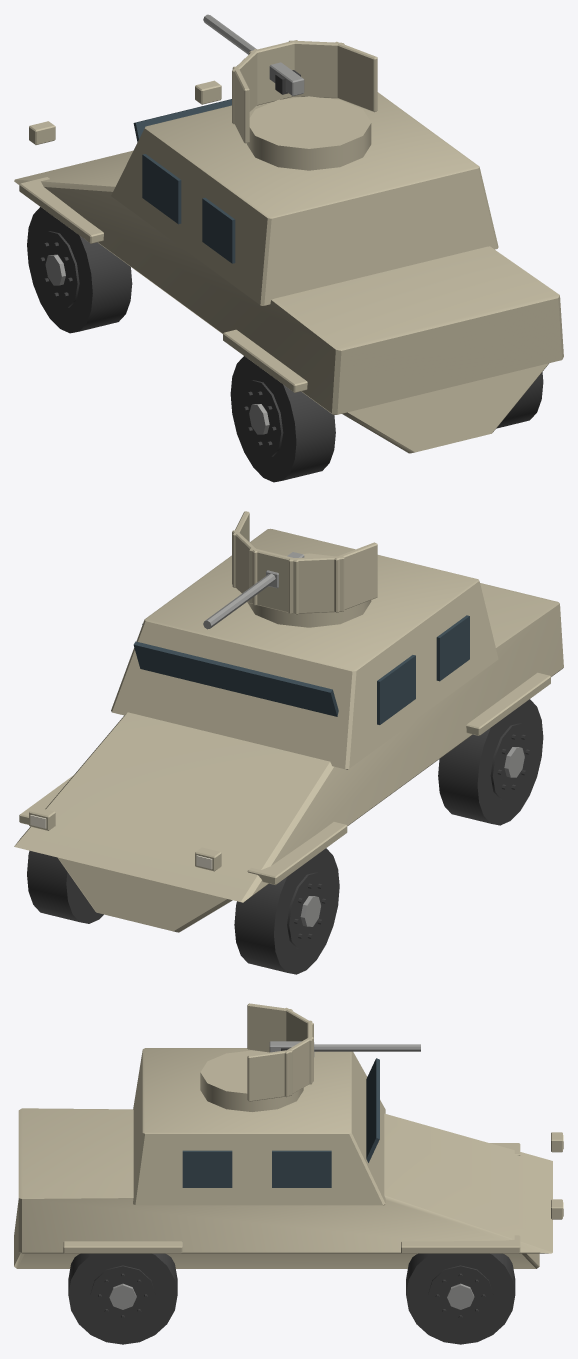
The model's file is rus_lv_tigr.glb.
3 views of the same model, one above another, from view 1: azimuth 30°, elevation 25°; view 2: azimuth 150°, elevation 25°; view 3: azimuth 270°, elevation 25° (orthographic). The views are drawn at different scales.
Visible parts, largest first — view 1: body, turret, wheel_0, wheel_2, barrel, wheel_3; view 2: body, turret, wheel_0, wheel_2, wheel_1, barrel; view 3: body, wheel_3, wheel_1, turret, barrel.
Boxes of the visible parts, <box> form: body: <box>14,80,563,453</box>; turret: <box>232,40,377,170</box>; wheel_0: <box>27,207,132,333</box>; wheel_2: <box>230,356,335,482</box>; barrel: <box>203,14,304,95</box>; wheel_3: <box>496,372,543,428</box>; body: <box>14,528,563,932</box>; turret: <box>232,511,377,627</box>; wheel_0: <box>234,848,339,974</box>; wheel_2: <box>438,699,543,825</box>; wheel_1: <box>27,850,103,923</box>; barrel: <box>203,552,304,629</box>; body: <box>14,1048,563,1268</box>; wheel_3: <box>68,1253,177,1344</box>; wheel_1: <box>406,1253,515,1344</box>; turret: <box>200,1003,313,1111</box>; barrel: <box>269,1041,420,1056</box>.
Bounding box in the file's own units: 2.5 × 2.94 × 5.54.
